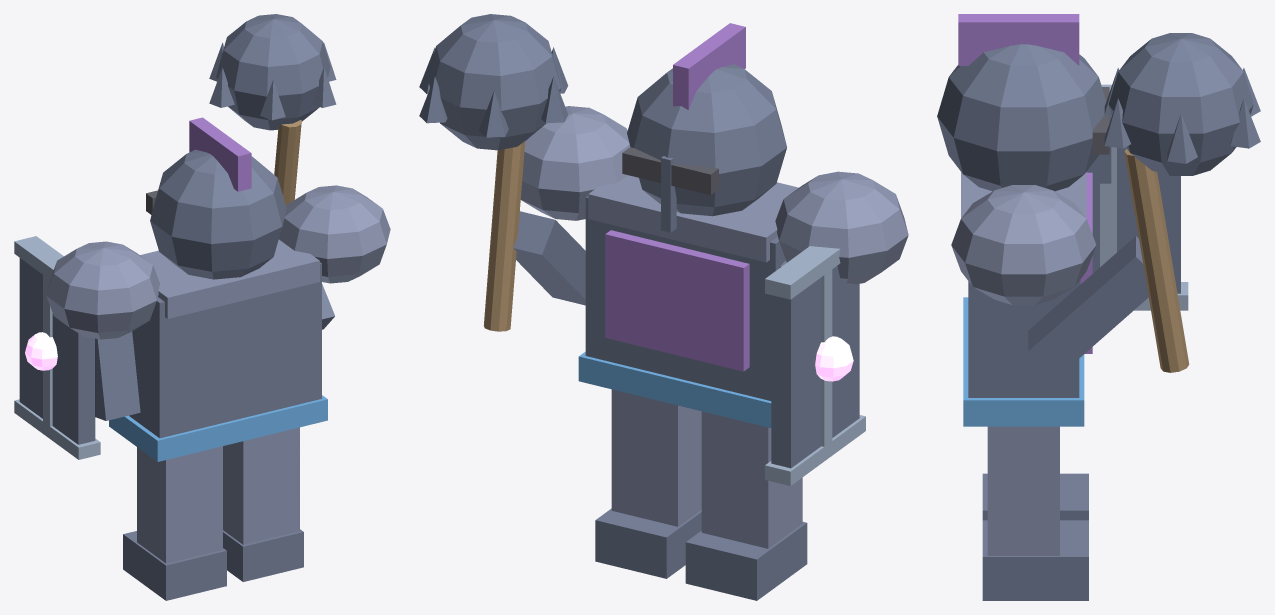
The model's file is dark_prince.glb.
3 views of the same model, side by side, from view 1: azimuth 30°, elevation 25°; view 2: azimuth 150°, elevation 25°; view 3: azimuth 270°, elevation 25° (orthographic). The views are drawn at different scales.
Visible parts, largest first — view 1: dark_prince; view 2: dark_prince; view 3: dark_prince.
Boxes of the visible parts, x1,y1,x2,y2 form: dark_prince: [14, 14, 390, 600]; dark_prince: [419, 14, 908, 600]; dark_prince: [937, 14, 1260, 600].
Bounding box in the file's own units: 2.03 × 2.7 × 1.34.
